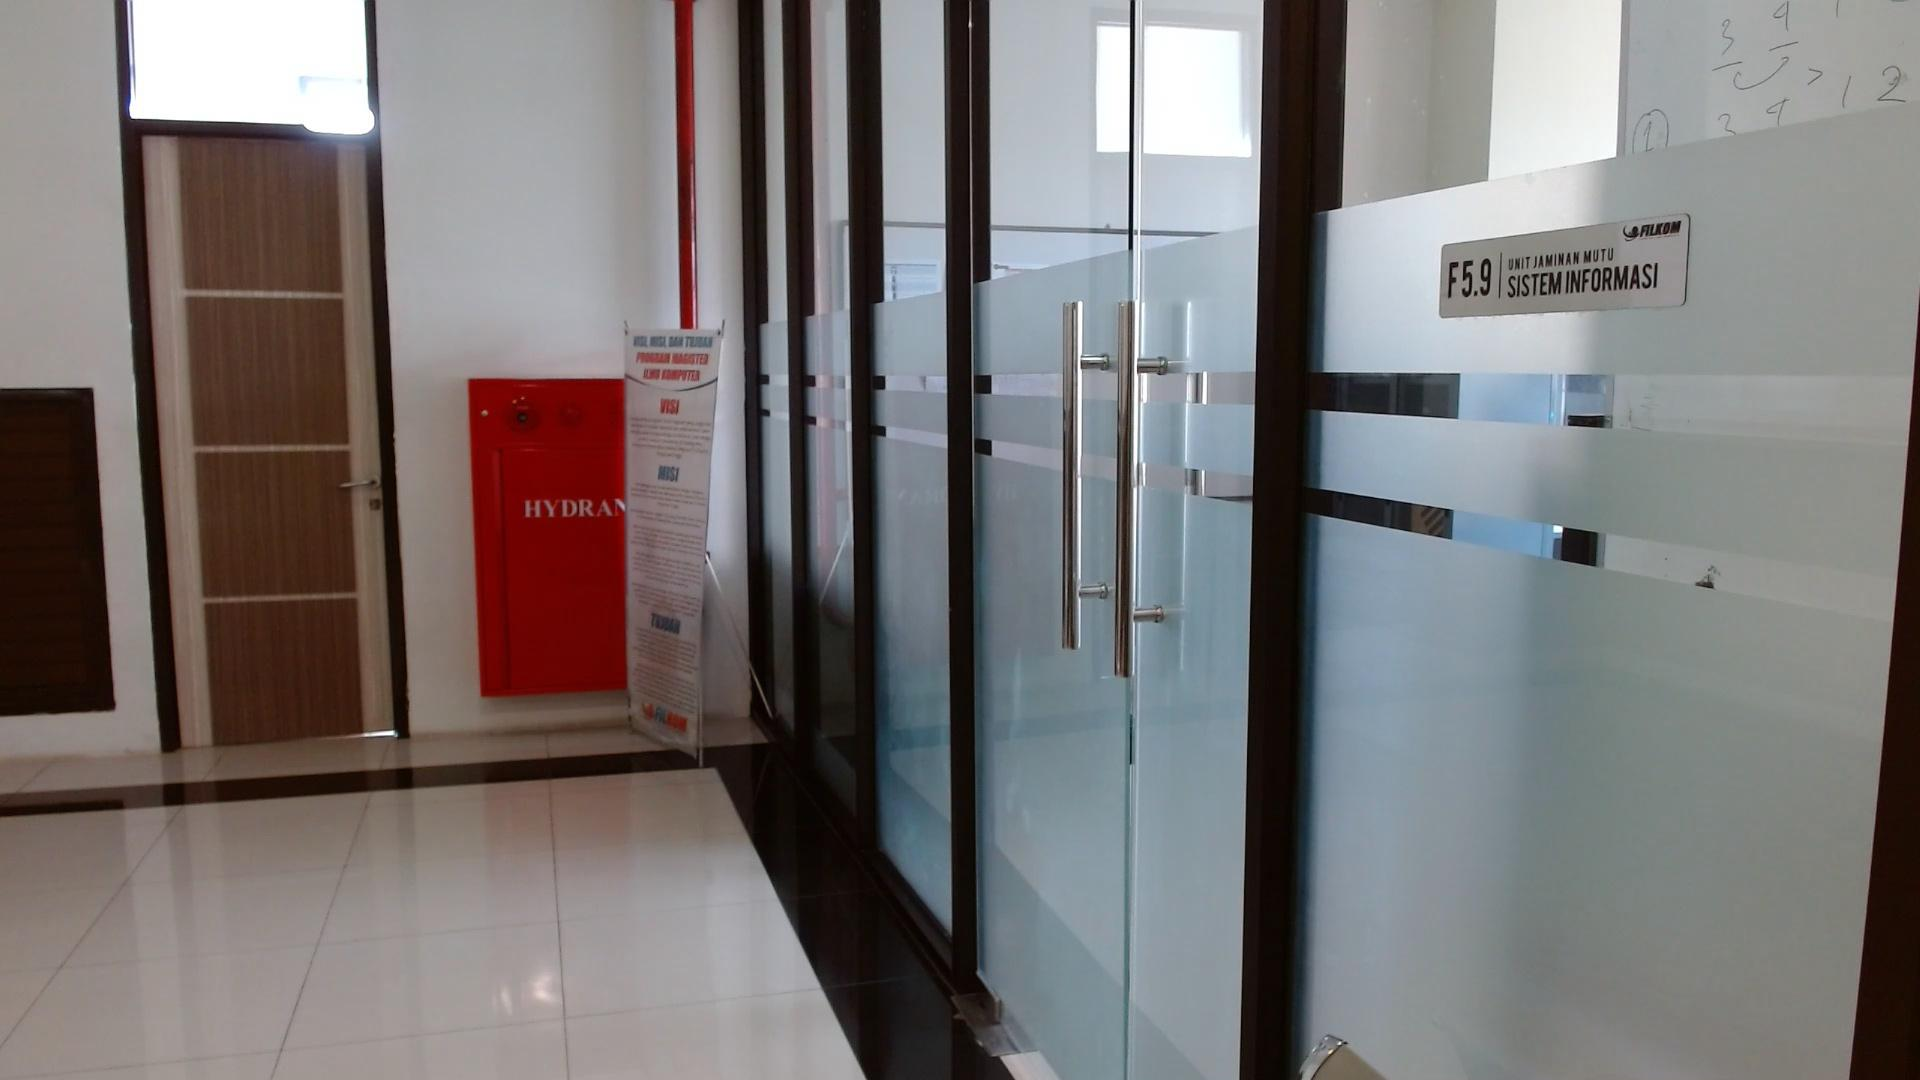plate: (1439, 212, 1691, 318)
